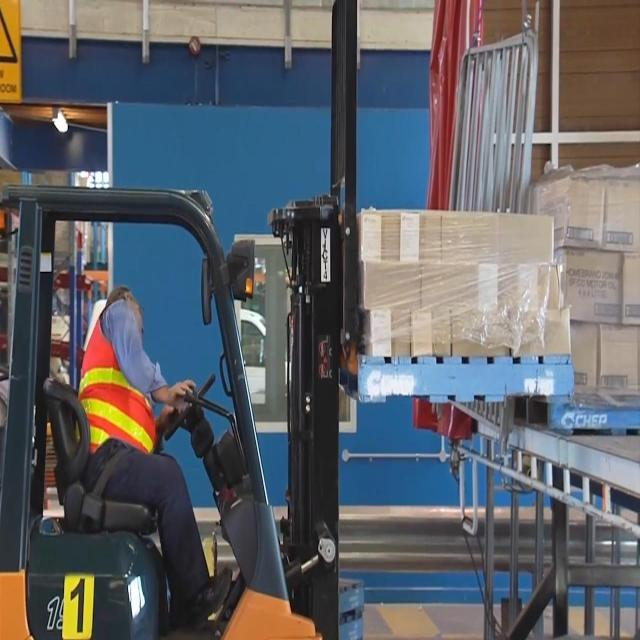box: (358, 200, 574, 360), (530, 155, 640, 405)
forklift: (0, 2, 493, 640)
pallets: (352, 355, 574, 406), (542, 387, 640, 441), (340, 569, 366, 640)
person: (80, 138, 256, 526)
